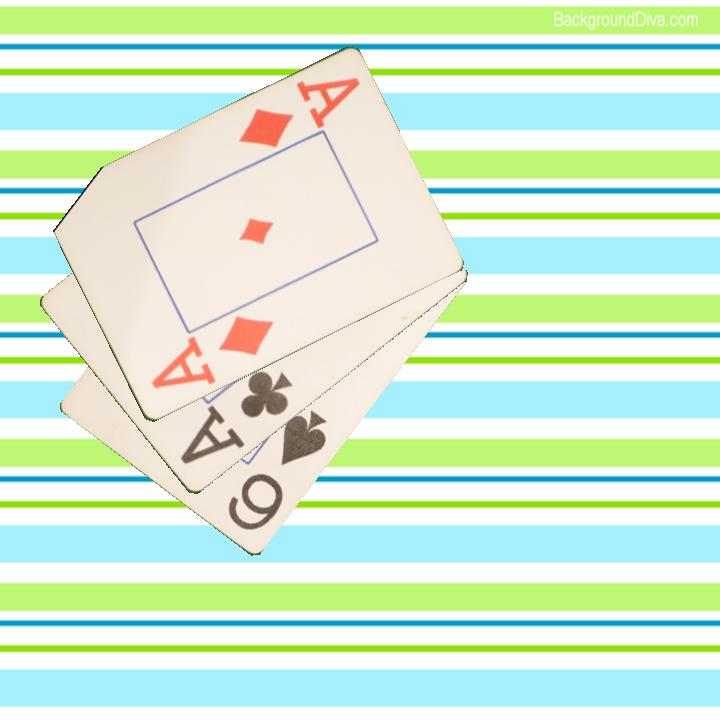6s: (224, 407, 330, 534)
Ac: (176, 367, 296, 469)
Ad: (147, 313, 276, 393), (235, 74, 363, 152)
